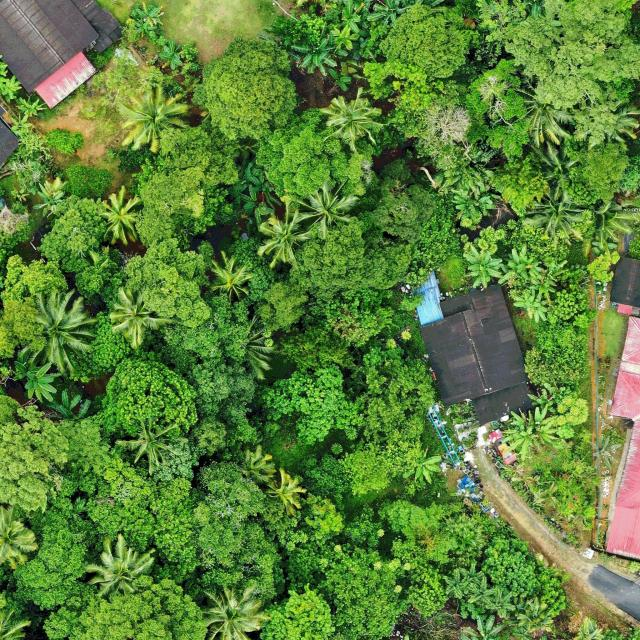Tree: (503, 0, 640, 146), (134, 124, 239, 248), (197, 35, 300, 144), (255, 106, 376, 198), (94, 348, 200, 439), (124, 236, 214, 330), (379, 1, 476, 79), (12, 290, 96, 378), (0, 253, 68, 354), (34, 194, 108, 274), (82, 534, 161, 602), (116, 84, 191, 154), (570, 79, 640, 152), (66, 308, 132, 385), (509, 78, 578, 147), (522, 322, 590, 389), (316, 88, 384, 154), (193, 582, 265, 640), (107, 286, 169, 352), (568, 140, 631, 203), (524, 184, 588, 246), (294, 184, 362, 238), (256, 208, 316, 269), (117, 417, 182, 469), (583, 195, 637, 257), (226, 159, 284, 214), (502, 406, 561, 460), (94, 187, 145, 246), (204, 250, 254, 302), (0, 504, 38, 566), (261, 467, 307, 515), (14, 359, 62, 401), (63, 162, 115, 198), (463, 244, 503, 290), (31, 177, 72, 220), (291, 37, 337, 75), (238, 444, 278, 484), (497, 246, 539, 284), (48, 387, 92, 421), (401, 450, 443, 485), (451, 188, 502, 216), (527, 383, 572, 413), (586, 249, 622, 284), (530, 260, 568, 293), (511, 291, 548, 324), (367, 0, 412, 26), (45, 127, 85, 156), (461, 615, 506, 640), (15, 91, 48, 122), (486, 590, 516, 618), (337, 0, 362, 32), (441, 568, 467, 598), (468, 579, 496, 605), (0, 73, 22, 103), (9, 112, 32, 137), (459, 564, 484, 586)
